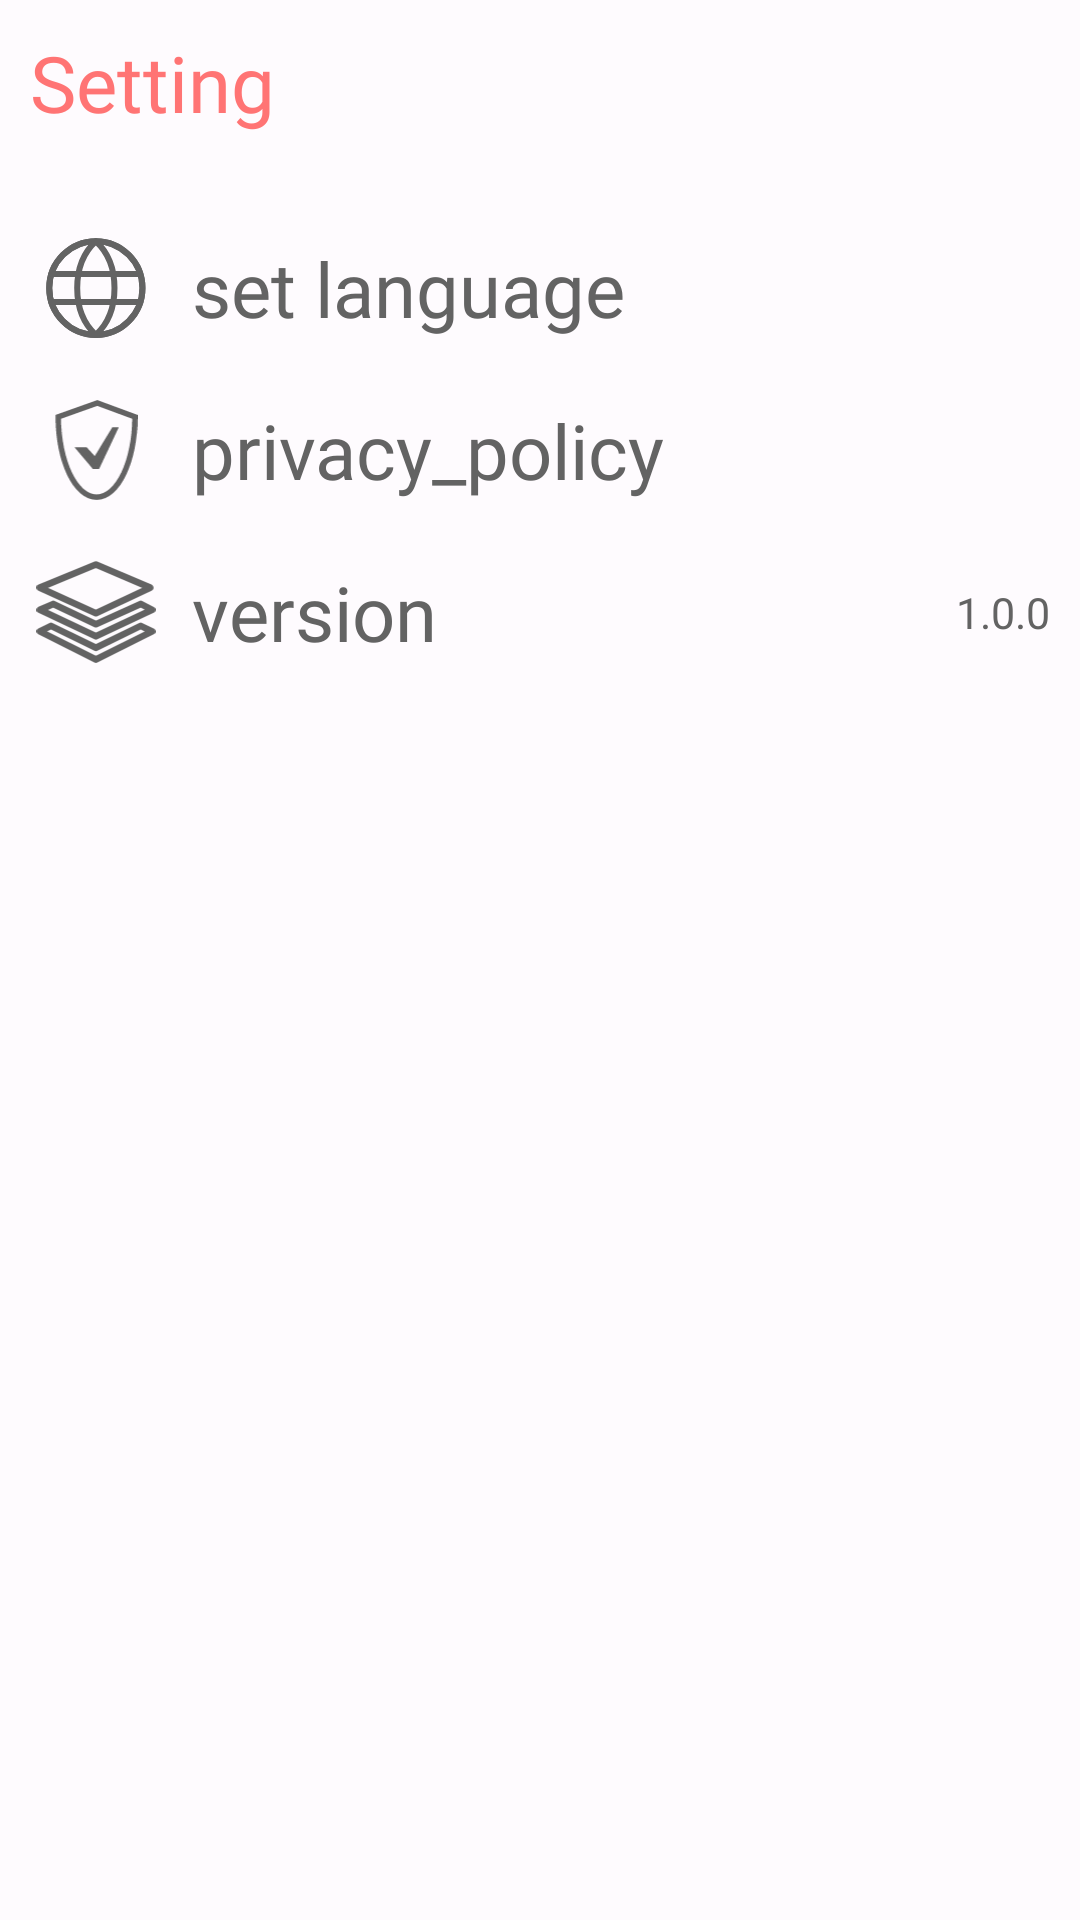

Screen size 1080 x 1920. Icon name, then its center in pixels as [x,y]:
pri: [96,450]
ver: [96,612]
